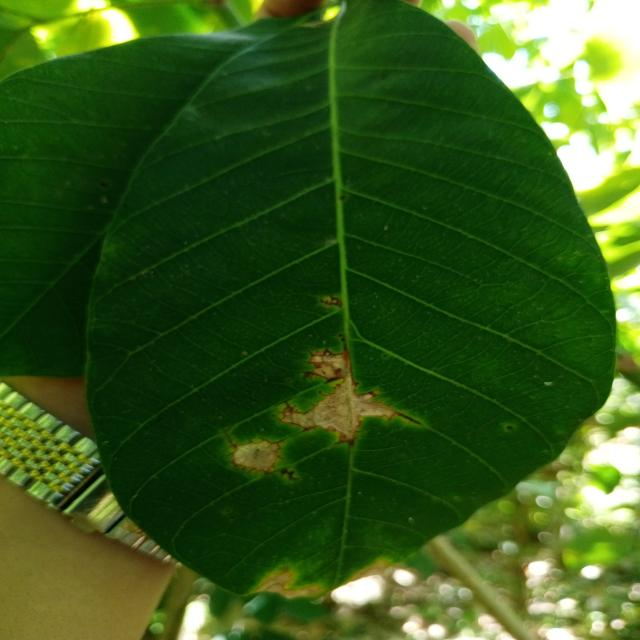Corynespora: (222, 431, 286, 477), (398, 410, 422, 426), (281, 467, 299, 481)
Leaf-Blight: (282, 351, 399, 440), (235, 440, 279, 470)
